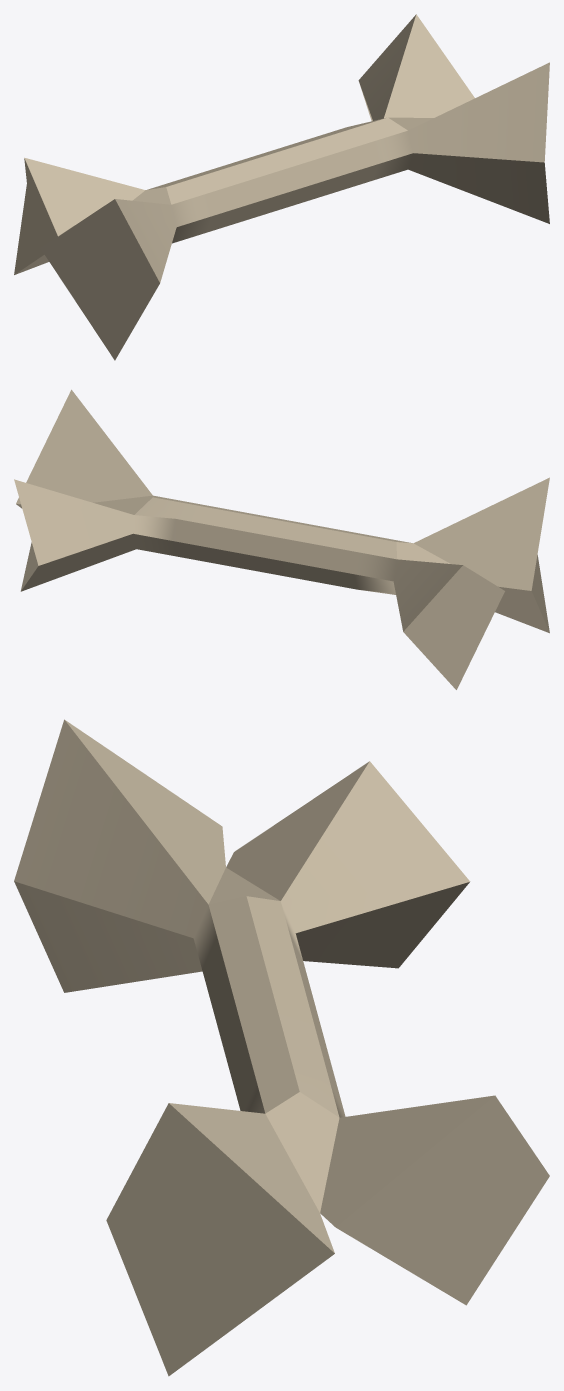
The model's file is Gluttony_smallBone.fbx.
The picture shows the model from 3 angles, top to bottom: view 1: azimuth 30°, elevation 25°; view 2: azimuth 150°, elevation 25°; view 3: azimuth 270°, elevation 25°; orthographic projection. The views are drawn at different scales.
Visible parts, largest first — view 1: Bone2; view 2: Bone2; view 3: Bone2.
Part boxes in pixels (left/top/right/bottom): Bone2: left=14, top=14, right=549, bottom=360; Bone2: left=14, top=389, right=549, bottom=689; Bone2: left=14, top=719, right=549, bottom=1376.
Size of the model in its own units: 0.3214 by 0.0992 by 0.1758.
